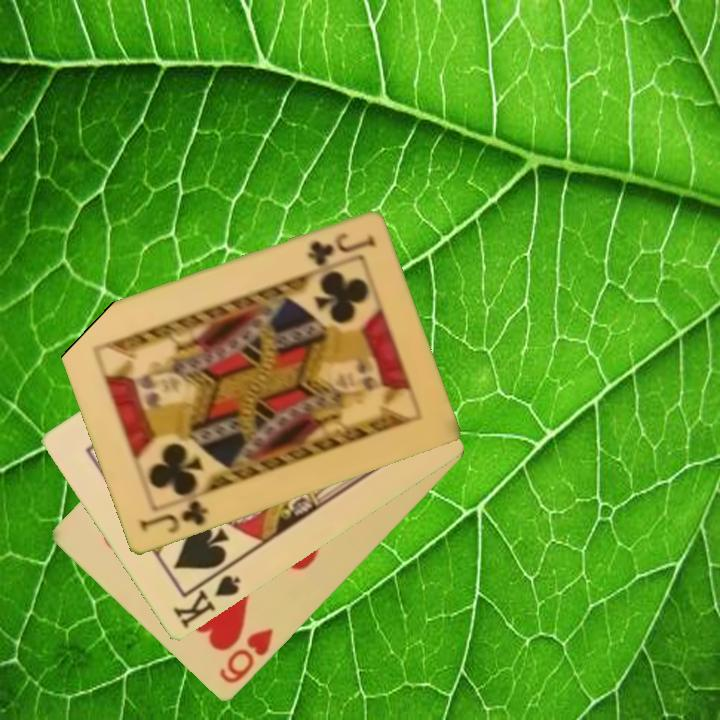6h: (216, 625, 276, 687)
Jc: (136, 497, 212, 537), (303, 229, 378, 269)
Ks: (169, 572, 244, 633)
